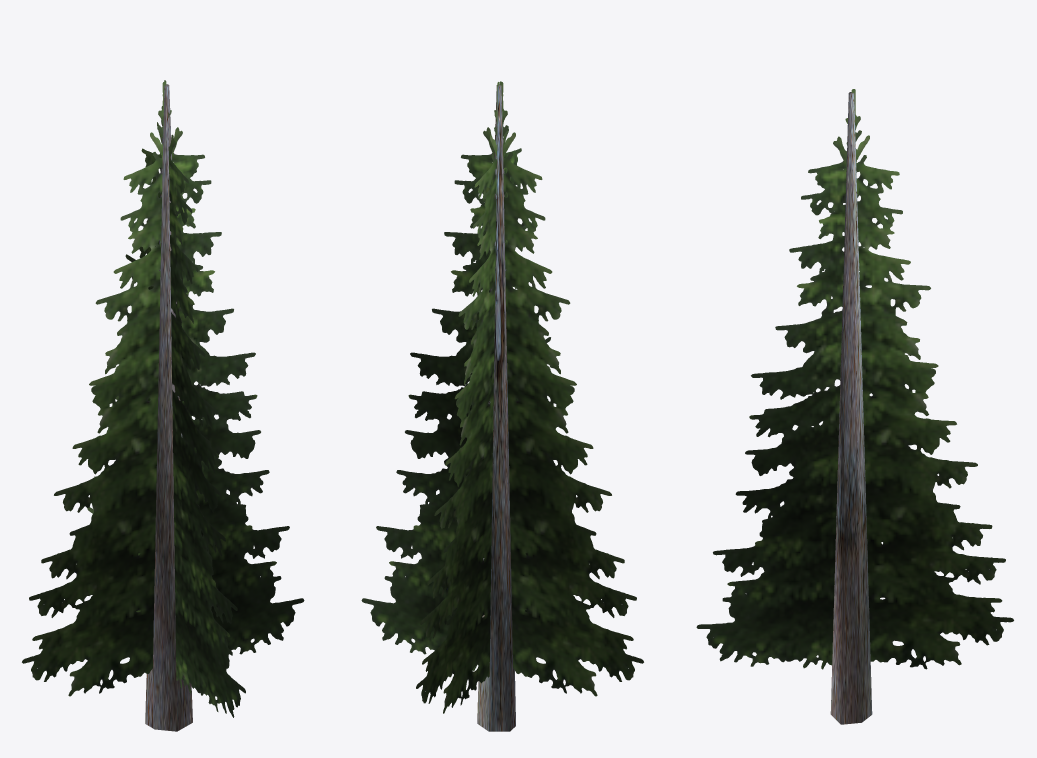
The model's file is Tree_Type1__1.fbx.
The picture shows the model from 3 angles, left to right: view 1: azimuth 30°, elevation 25°; view 2: azimuth 150°, elevation 25°; view 3: azimuth 270°, elevation 25°; orthographic projection. The views are drawn at different scales.
Parts seen in each view (by area): view 1: Tree_Type1__1; view 2: Tree_Type1__1; view 3: Tree_Type1__1.
Boxes of the visible parts, box(x1,y1,x2,y2) form: Tree_Type1__1: box(22, 80, 304, 731); Tree_Type1__1: box(361, 81, 643, 731); Tree_Type1__1: box(696, 89, 1013, 724).
Size of the model in its own units: 12.44 by 25.2 by 12.44.
